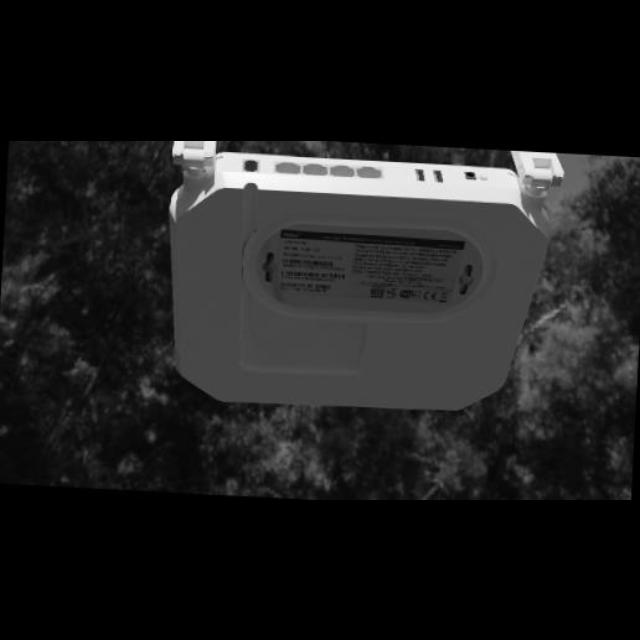Router: (166, 145, 574, 419)
